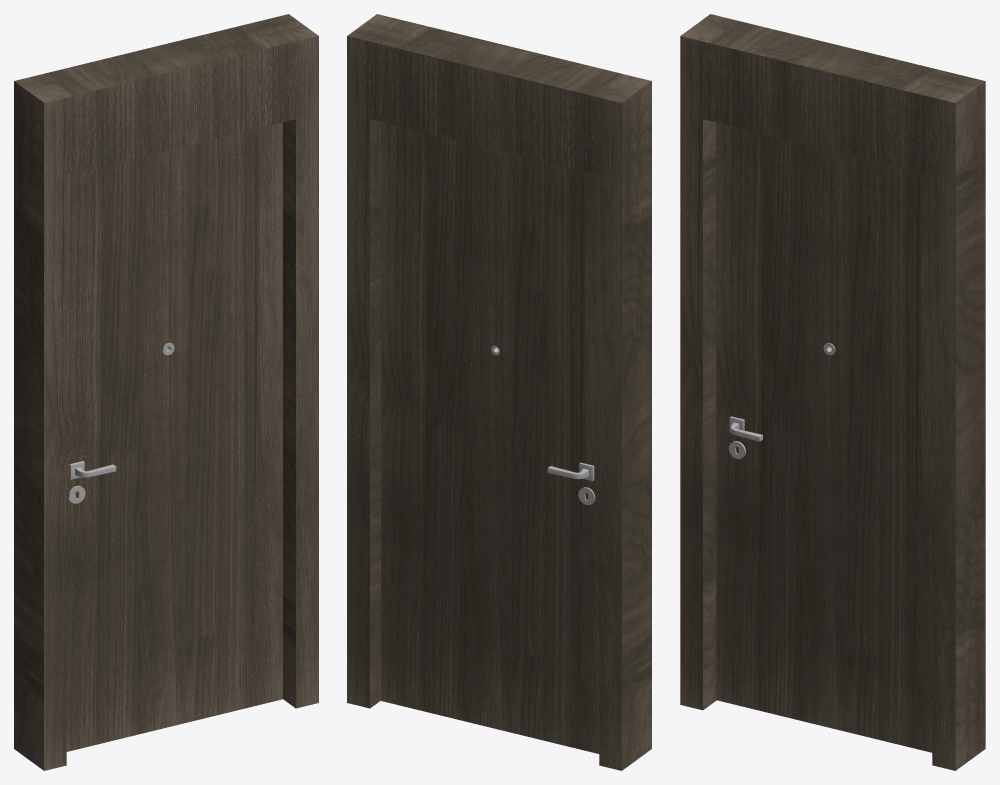
File: Entrance door.FBX
3 renders of one model, left to right at view 1: azimuth 30°, elevation 25°; view 2: azimuth 150°, elevation 25°; view 3: azimuth 330°, elevation 25°, orthographic.
Visible parts, largest first — view 1: Door, door frame; view 2: Door, door frame; view 3: Door, door frame.
Boxes of the visible parts, x1=… form: Door: x1=66, y1=122, x2=282, y2=751; door frame: x1=14, y1=14, x2=318, y2=770; Door: x1=381, y1=122, x2=599, y2=753; door frame: x1=347, y1=14, x2=651, y2=770; Door: x1=716, y1=122, x2=932, y2=752; door frame: x1=680, y1=14, x2=985, y2=770.
Bounding box in the file's own units: 107 × 249 × 20.33.
2 materials, 2 textured.
